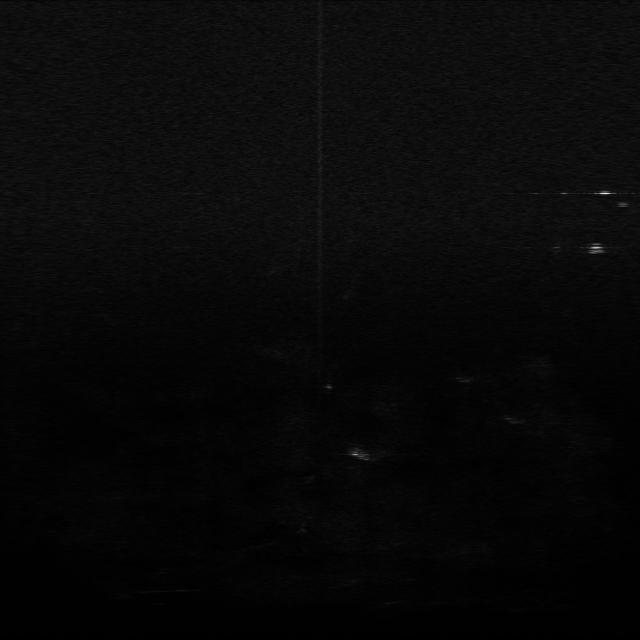rov: (583, 234, 608, 258)
